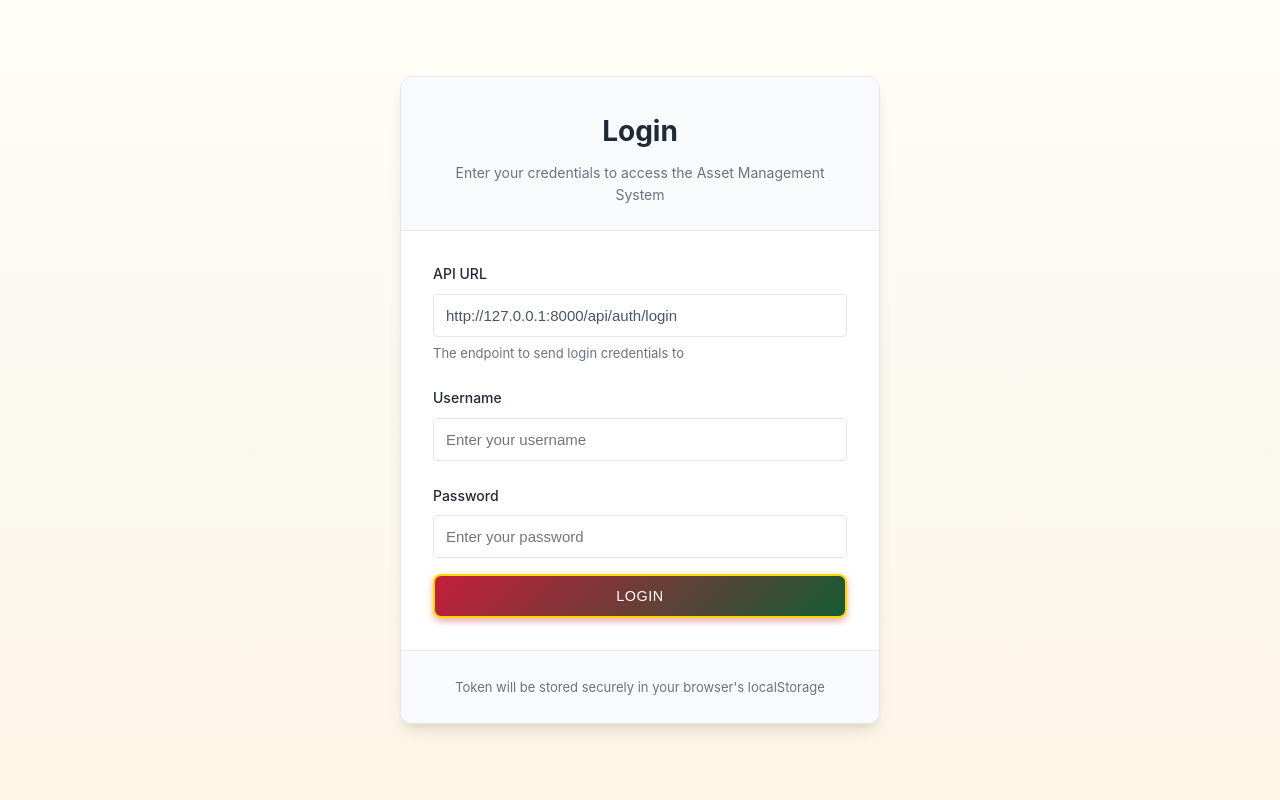
Scenario: LoginView.vue › shows error when submitting without password
Type "testuser" into the field with id "username".
click(640, 439); type("testuser")  # box [433,418,847,461]
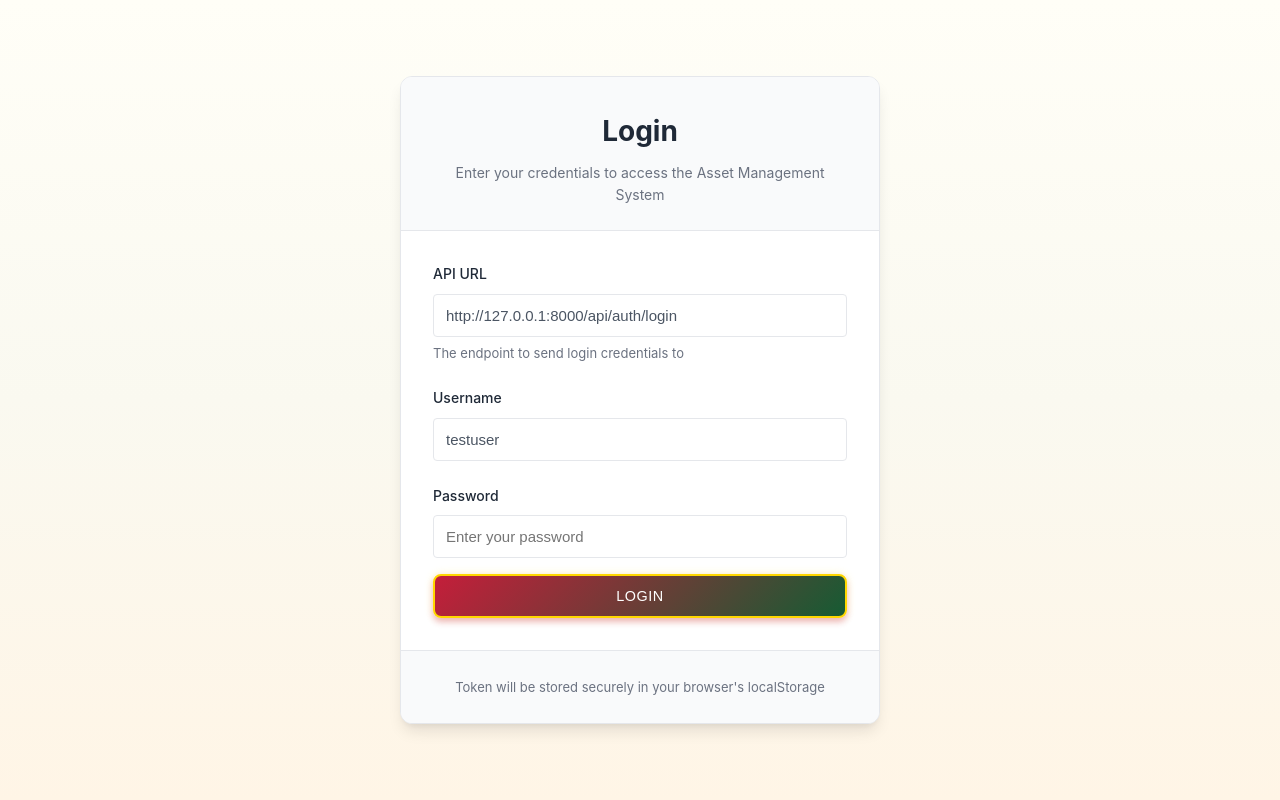
Submit the form with class "login-form", box [401,231,879,650]
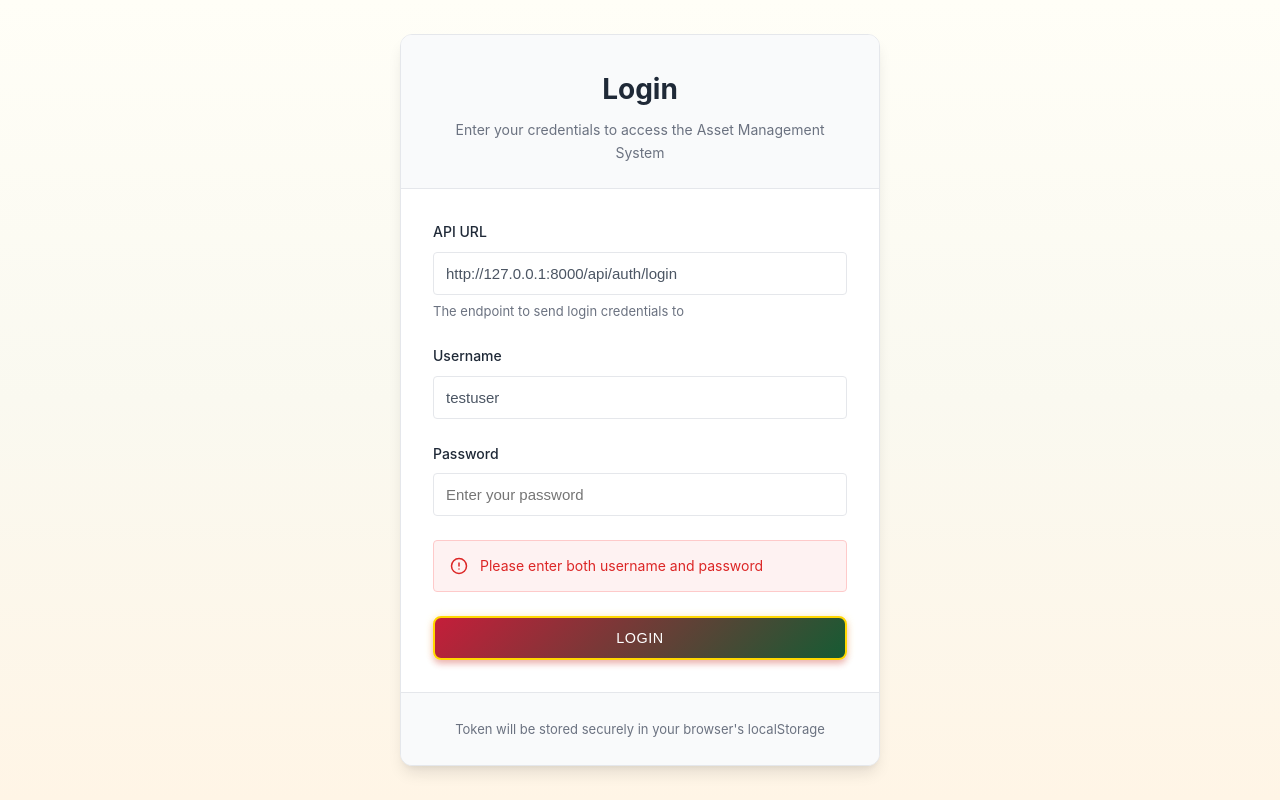
Expected: the text "Please enter both username and password" is shown, [433,540,847,592]
